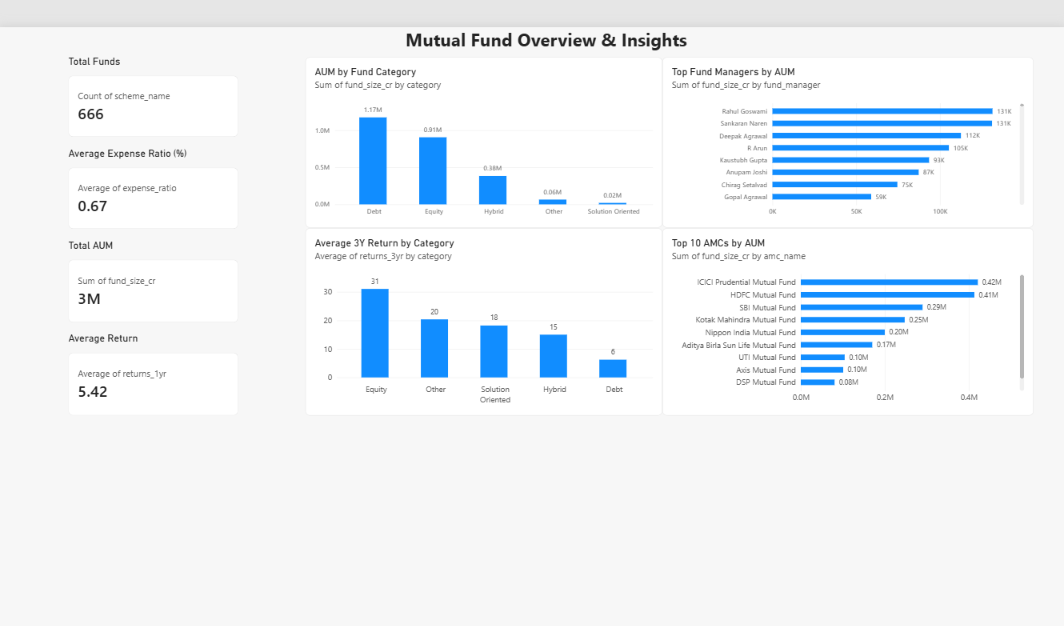

The dashboard page shown, as its layout file describes it:
{"tool":"powerbi","page":{"name":"Mutual Fund Overview","canvas":[1920,1080],"ordinal":0},"visuals":[{"type":"textbox","box":[720.9,0,528.5,50.3],"z":0},{"type":"cardVisual","title":"Total Funds","fields":{"Data":["CountNonNull(Sheet1.scheme_name)"]},"box":[125.7,50,305.4,147.3],"z":1000},{"type":"cardVisual","title":"Total AUM ","fields":{"Data":["Sum(Sheet1.fund_size_cr)"]},"box":[125.7,381.1,305.4,150],"z":2000},{"type":"cardVisual","title":"Average Expense Ratio (%)","fields":{"Data":["Avg(Sheet1.expense_ratio)"]},"box":[125.7,214.9,305.4,147.3],"z":4000},{"type":"clusteredColumnChart","title":"AUM by Fund Category","fields":{"Category":["Sheet1.category"],"Y":["Sum(Sheet1.fund_size_cr)"]},"box":[552.7,54.1,641.9,306.8],"z":6000},{"type":"clusteredColumnChart","title":"Average 3Y Return by Category","fields":{"Category":["Sheet1.category"],"Y":["Avg(Sheet1.returns_3yr)"]},"box":[552.7,362.2,641.9,336.5],"z":7000},{"type":"clusteredBarChart","title":"Top 10 AMCs by AUM","fields":{"Category":["Sheet1.amc_name"],"Y":["Sum(Sheet1.fund_size_cr)"]},"box":[1194.6,360.8,667.6,336.5],"z":9000},{"type":"clusteredBarChart","title":"Top Fund Managers by AUM","fields":{"Category":["Sheet1.fund_manager"],"Y":["Sum(Sheet1.fund_size_cr)"]},"box":[1194.6,54.1,667.6,306.8],"z":10000},{"type":"cardVisual","title":"Average Return","fields":{"Data":["Avg(Sheet1.returns_1yr)"]},"box":[125.7,548.6,305.4,150],"z":10001}]}

Visuals, with their boxes on the page's 1920x1080 design canvas (x1, y1, x2, y2). These are canvas units, not pixel positions in the 1064x626 screenshot, which may show the page scaled, cropped or inside an application window:
textbox: {"left": 721, "top": 0, "right": 1249, "bottom": 50}
"Total Funds" cardVisual: {"left": 126, "top": 50, "right": 431, "bottom": 197}
"Total AUM " cardVisual: {"left": 126, "top": 381, "right": 431, "bottom": 531}
"Average Expense Ratio (%)" cardVisual: {"left": 126, "top": 215, "right": 431, "bottom": 362}
"AUM by Fund Category" clusteredColumnChart: {"left": 553, "top": 54, "right": 1195, "bottom": 361}
"Average 3Y Return by Category" clusteredColumnChart: {"left": 553, "top": 362, "right": 1195, "bottom": 699}
"Top 10 AMCs by AUM" clusteredBarChart: {"left": 1195, "top": 361, "right": 1862, "bottom": 697}
"Top Fund Managers by AUM" clusteredBarChart: {"left": 1195, "top": 54, "right": 1862, "bottom": 361}
"Average Return" cardVisual: {"left": 126, "top": 549, "right": 431, "bottom": 699}
